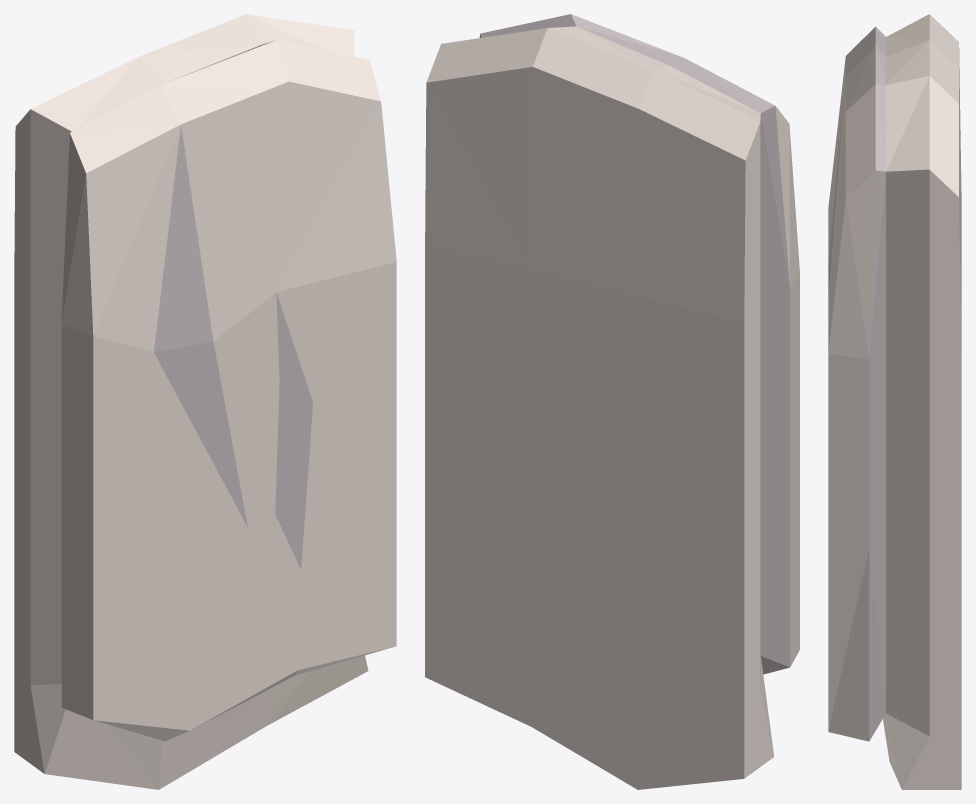
Rendered from waiter_rag_up.fbx.
The picture shows the model from 3 angles, left to right: view 1: azimuth 30°, elevation 25°; view 2: azimuth 150°, elevation 25°; view 3: azimuth 270°, elevation 25°; orthographic projection.
Visible parts, largest first — view 1: rag_mesh_up; view 2: rag_mesh_up; view 3: rag_mesh_up.
Boxes of the visible parts, box(x1,y1,x2,y2) form: rag_mesh_up: box(14, 14, 396, 789); rag_mesh_up: box(425, 14, 799, 789); rag_mesh_up: box(828, 14, 961, 789).
Bounding box in the file's own units: 11.56 × 24.24 × 4.05.
